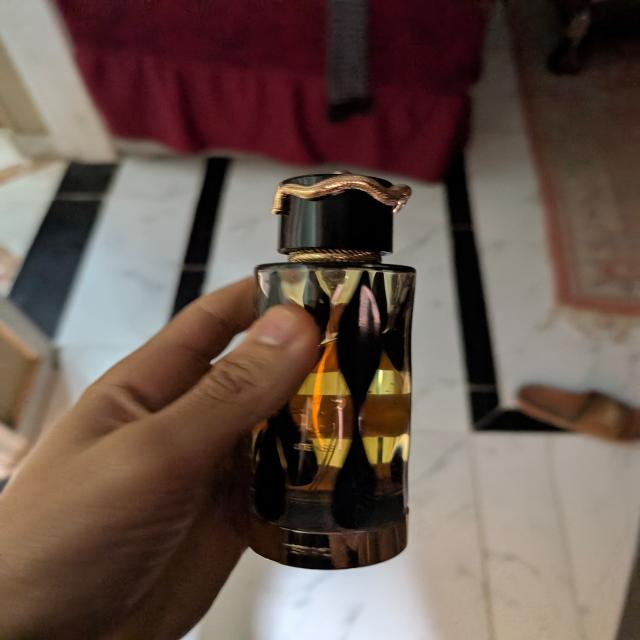Teriaq-Intense: (240, 169, 420, 572)
